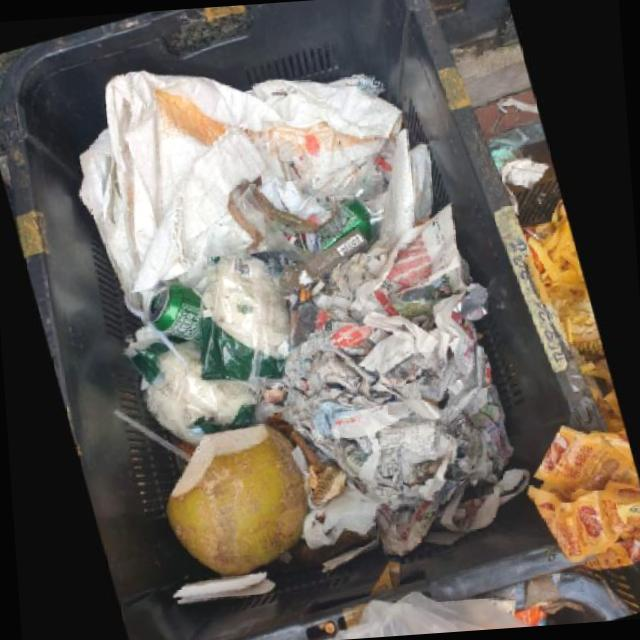carton: (279, 230, 369, 293)
giay: (282, 208, 530, 561)
nhom: (144, 282, 204, 345), (320, 201, 372, 253)
ong_hut_nhua: (114, 410, 193, 464)
vo_trai_cay: (165, 427, 311, 580), (525, 204, 606, 362)
